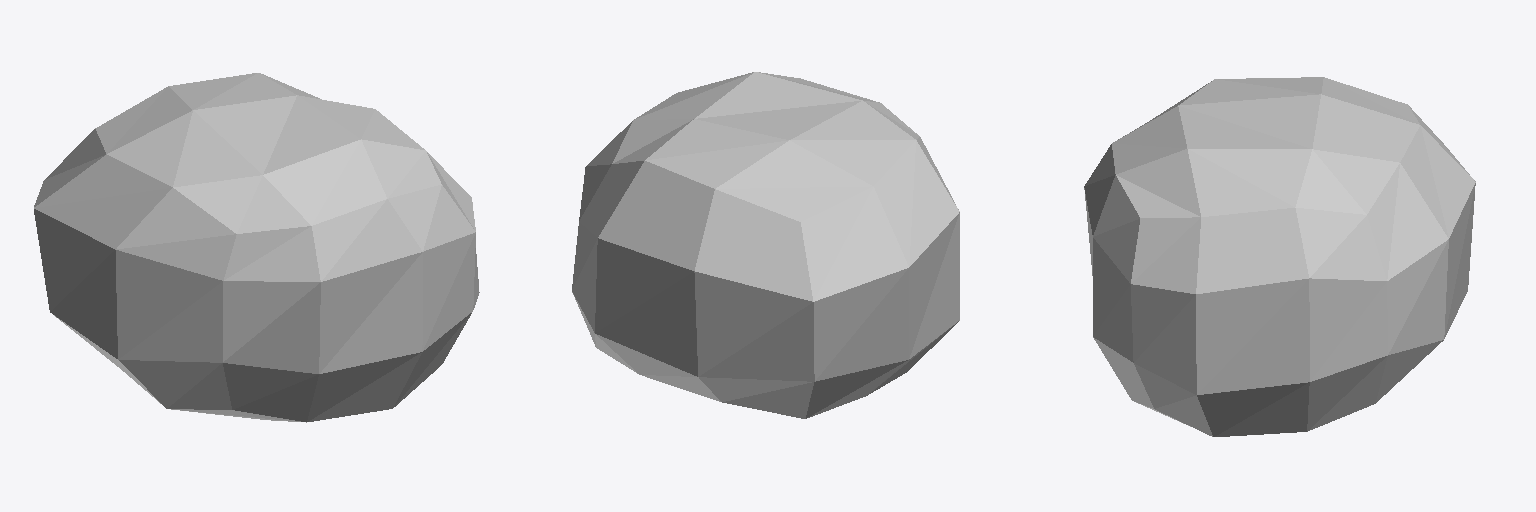
File: Rock1.obj
The picture shows the model from 3 angles: view 1: azimuth 30°, elevation 25°; view 2: azimuth 150°, elevation 25°; view 3: azimuth 270°, elevation 25°; orthographic projection.
Parts seen in each view (by area): view 1: Group31728; view 2: Group31728; view 3: Group31728.
Boxes of the visible parts, x1,y1,x2,y2 form: Group31728: [34, 73, 479, 422]; Group31728: [572, 72, 959, 418]; Group31728: [1084, 77, 1475, 436].
Size of the model in its own units: 0.4075 by 0.3019 by 0.3799.